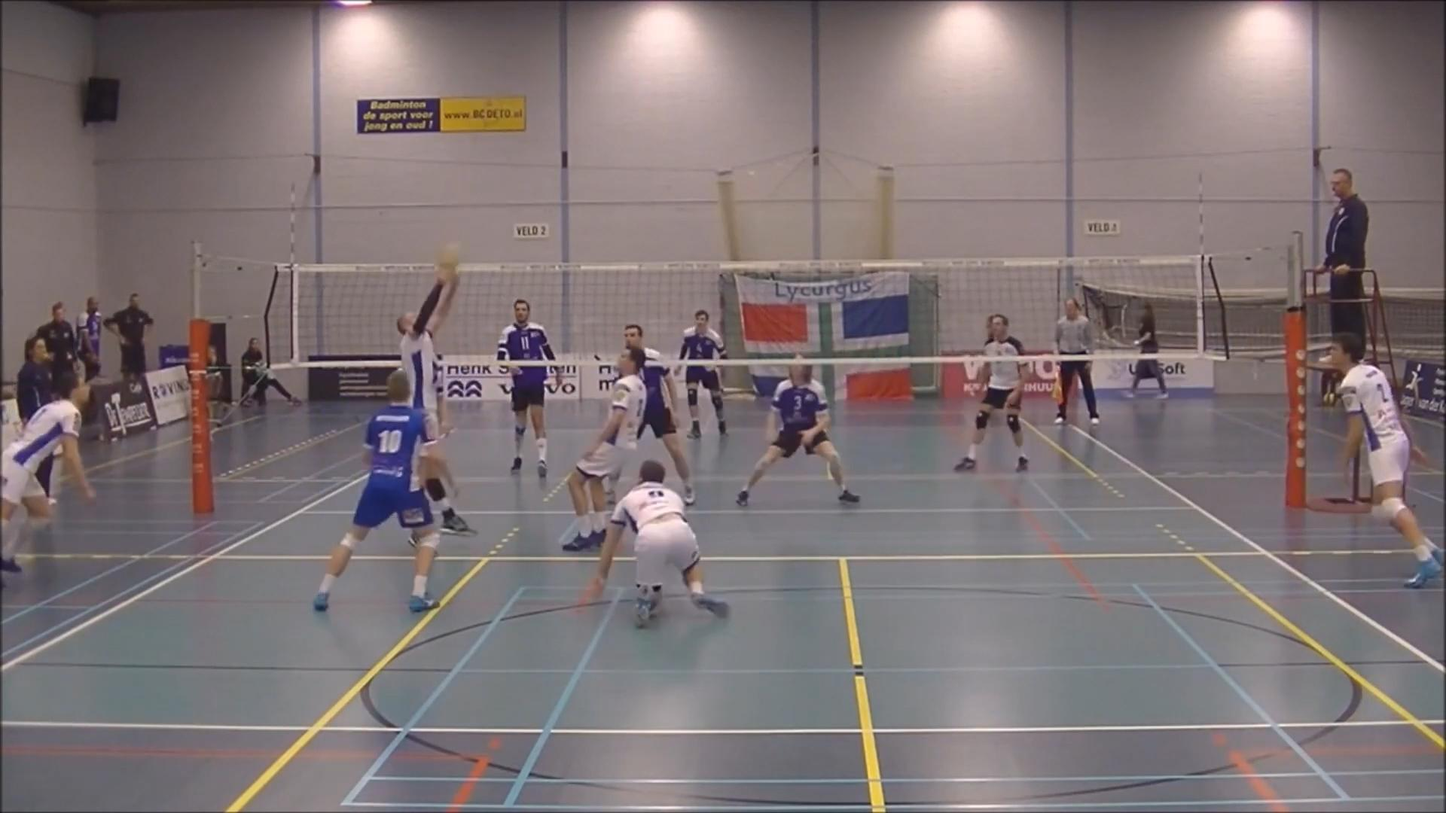alzata: (393, 263, 470, 533)
